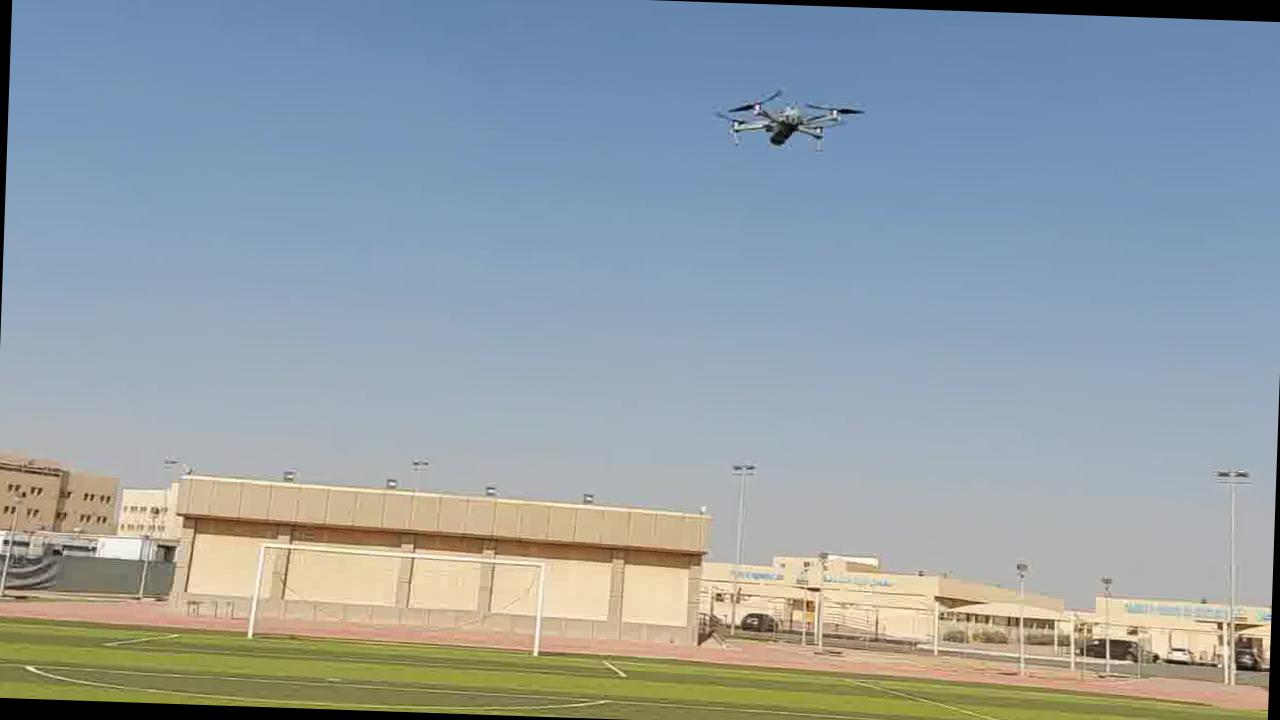drone: (706, 79, 877, 160)
